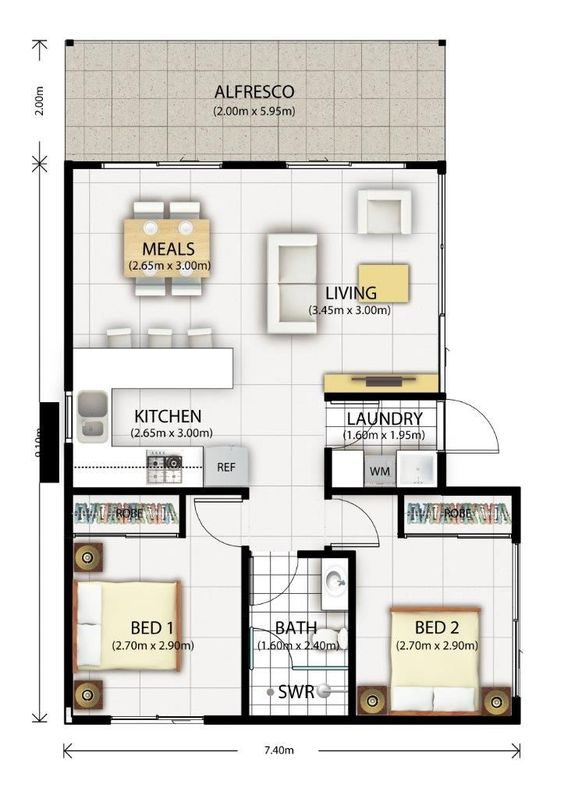room: (64, 158, 449, 402), (61, 486, 250, 728), (346, 484, 523, 725), (239, 547, 357, 725), (323, 390, 448, 498)
